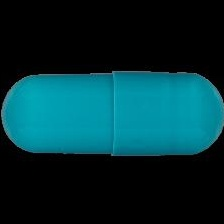67296-0556: (0, 0, 224, 224)
